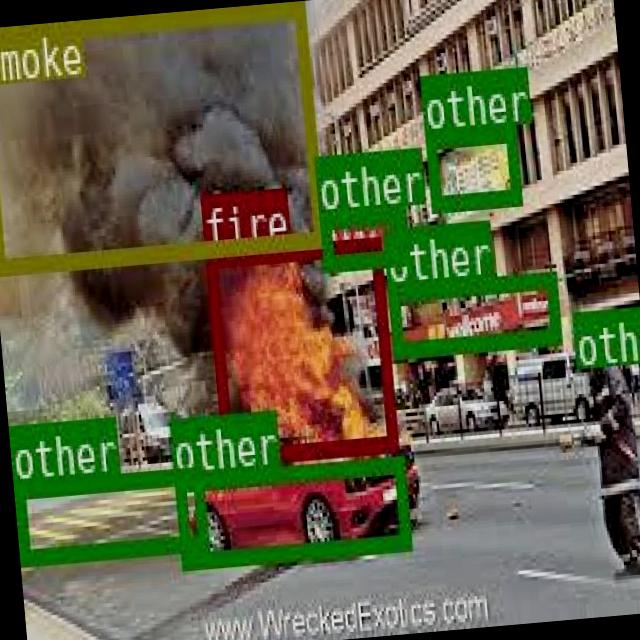fire: (204, 234, 396, 463)
smoke: (0, 0, 323, 273)
